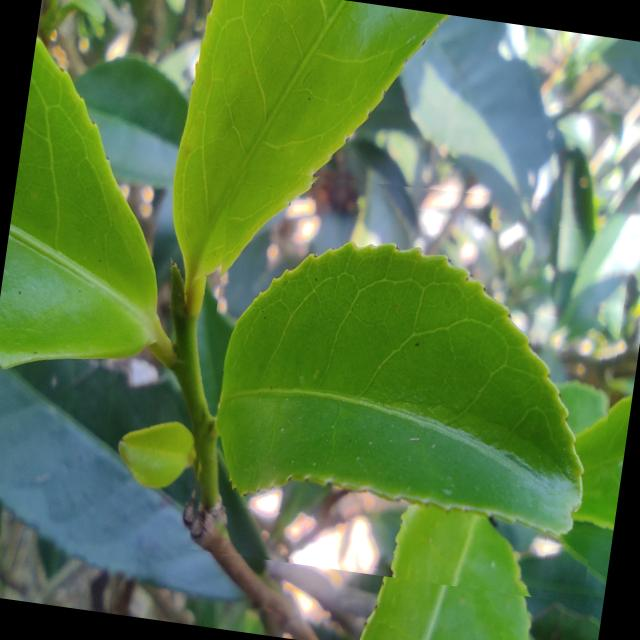Category C(4-7 days): (180, 156, 637, 604)
